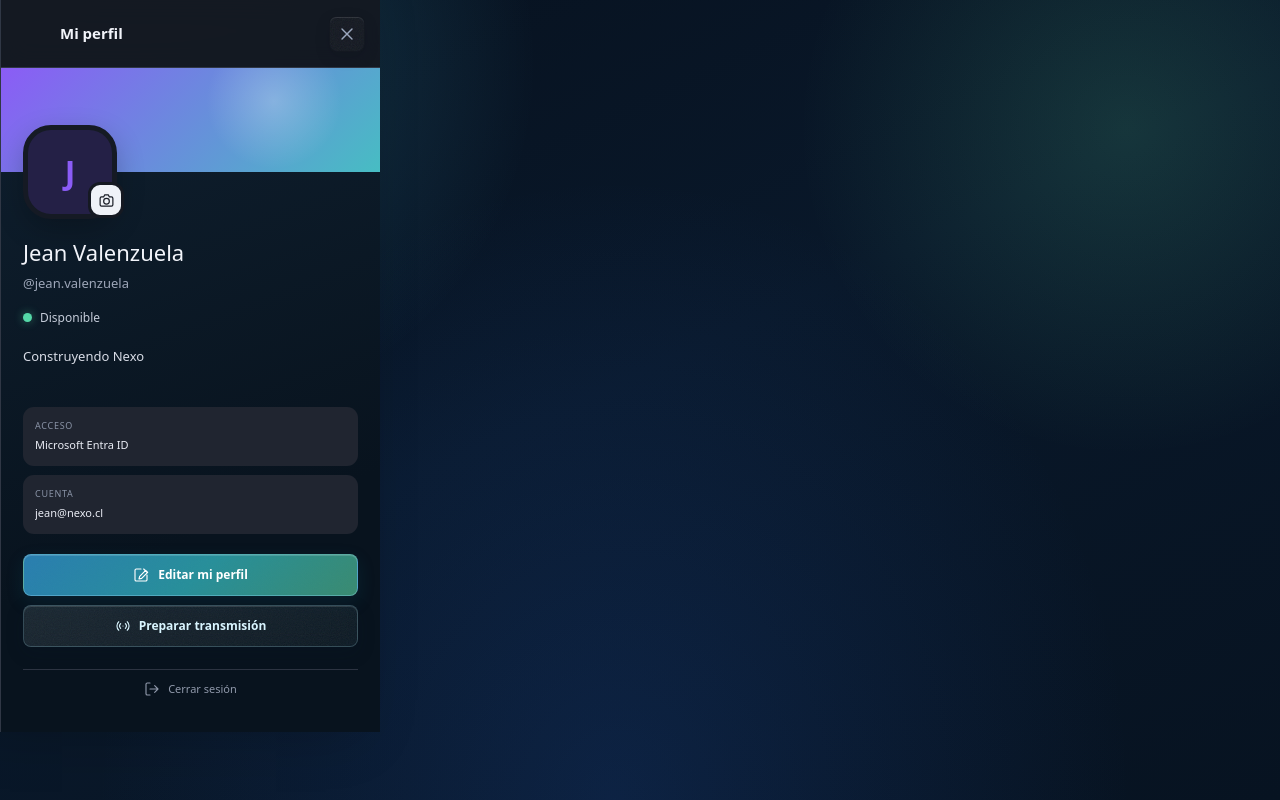
it: ProfilePanelComponent › opens the private multimedia studio from the profile
What coordinates should you click on to do the following:
click the button "Preparar transmisión"
I would click on:
 (190, 626)
Its box is [23, 604, 358, 646].
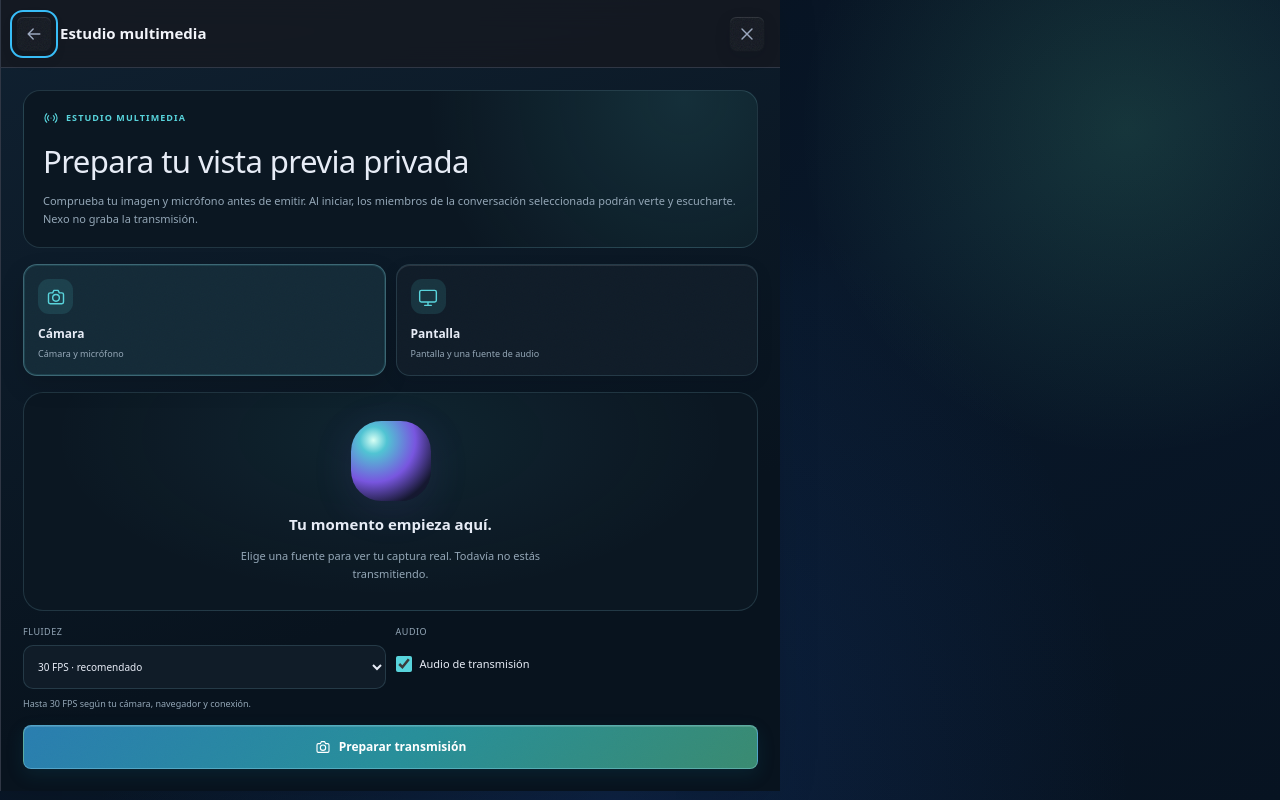
Result: the element that starts with "ESTUDIO MULTIMEDIA" is shown at [1, 68, 780, 791]
Result: the text "vista previa privada" is shown at [43, 140, 469, 182]
